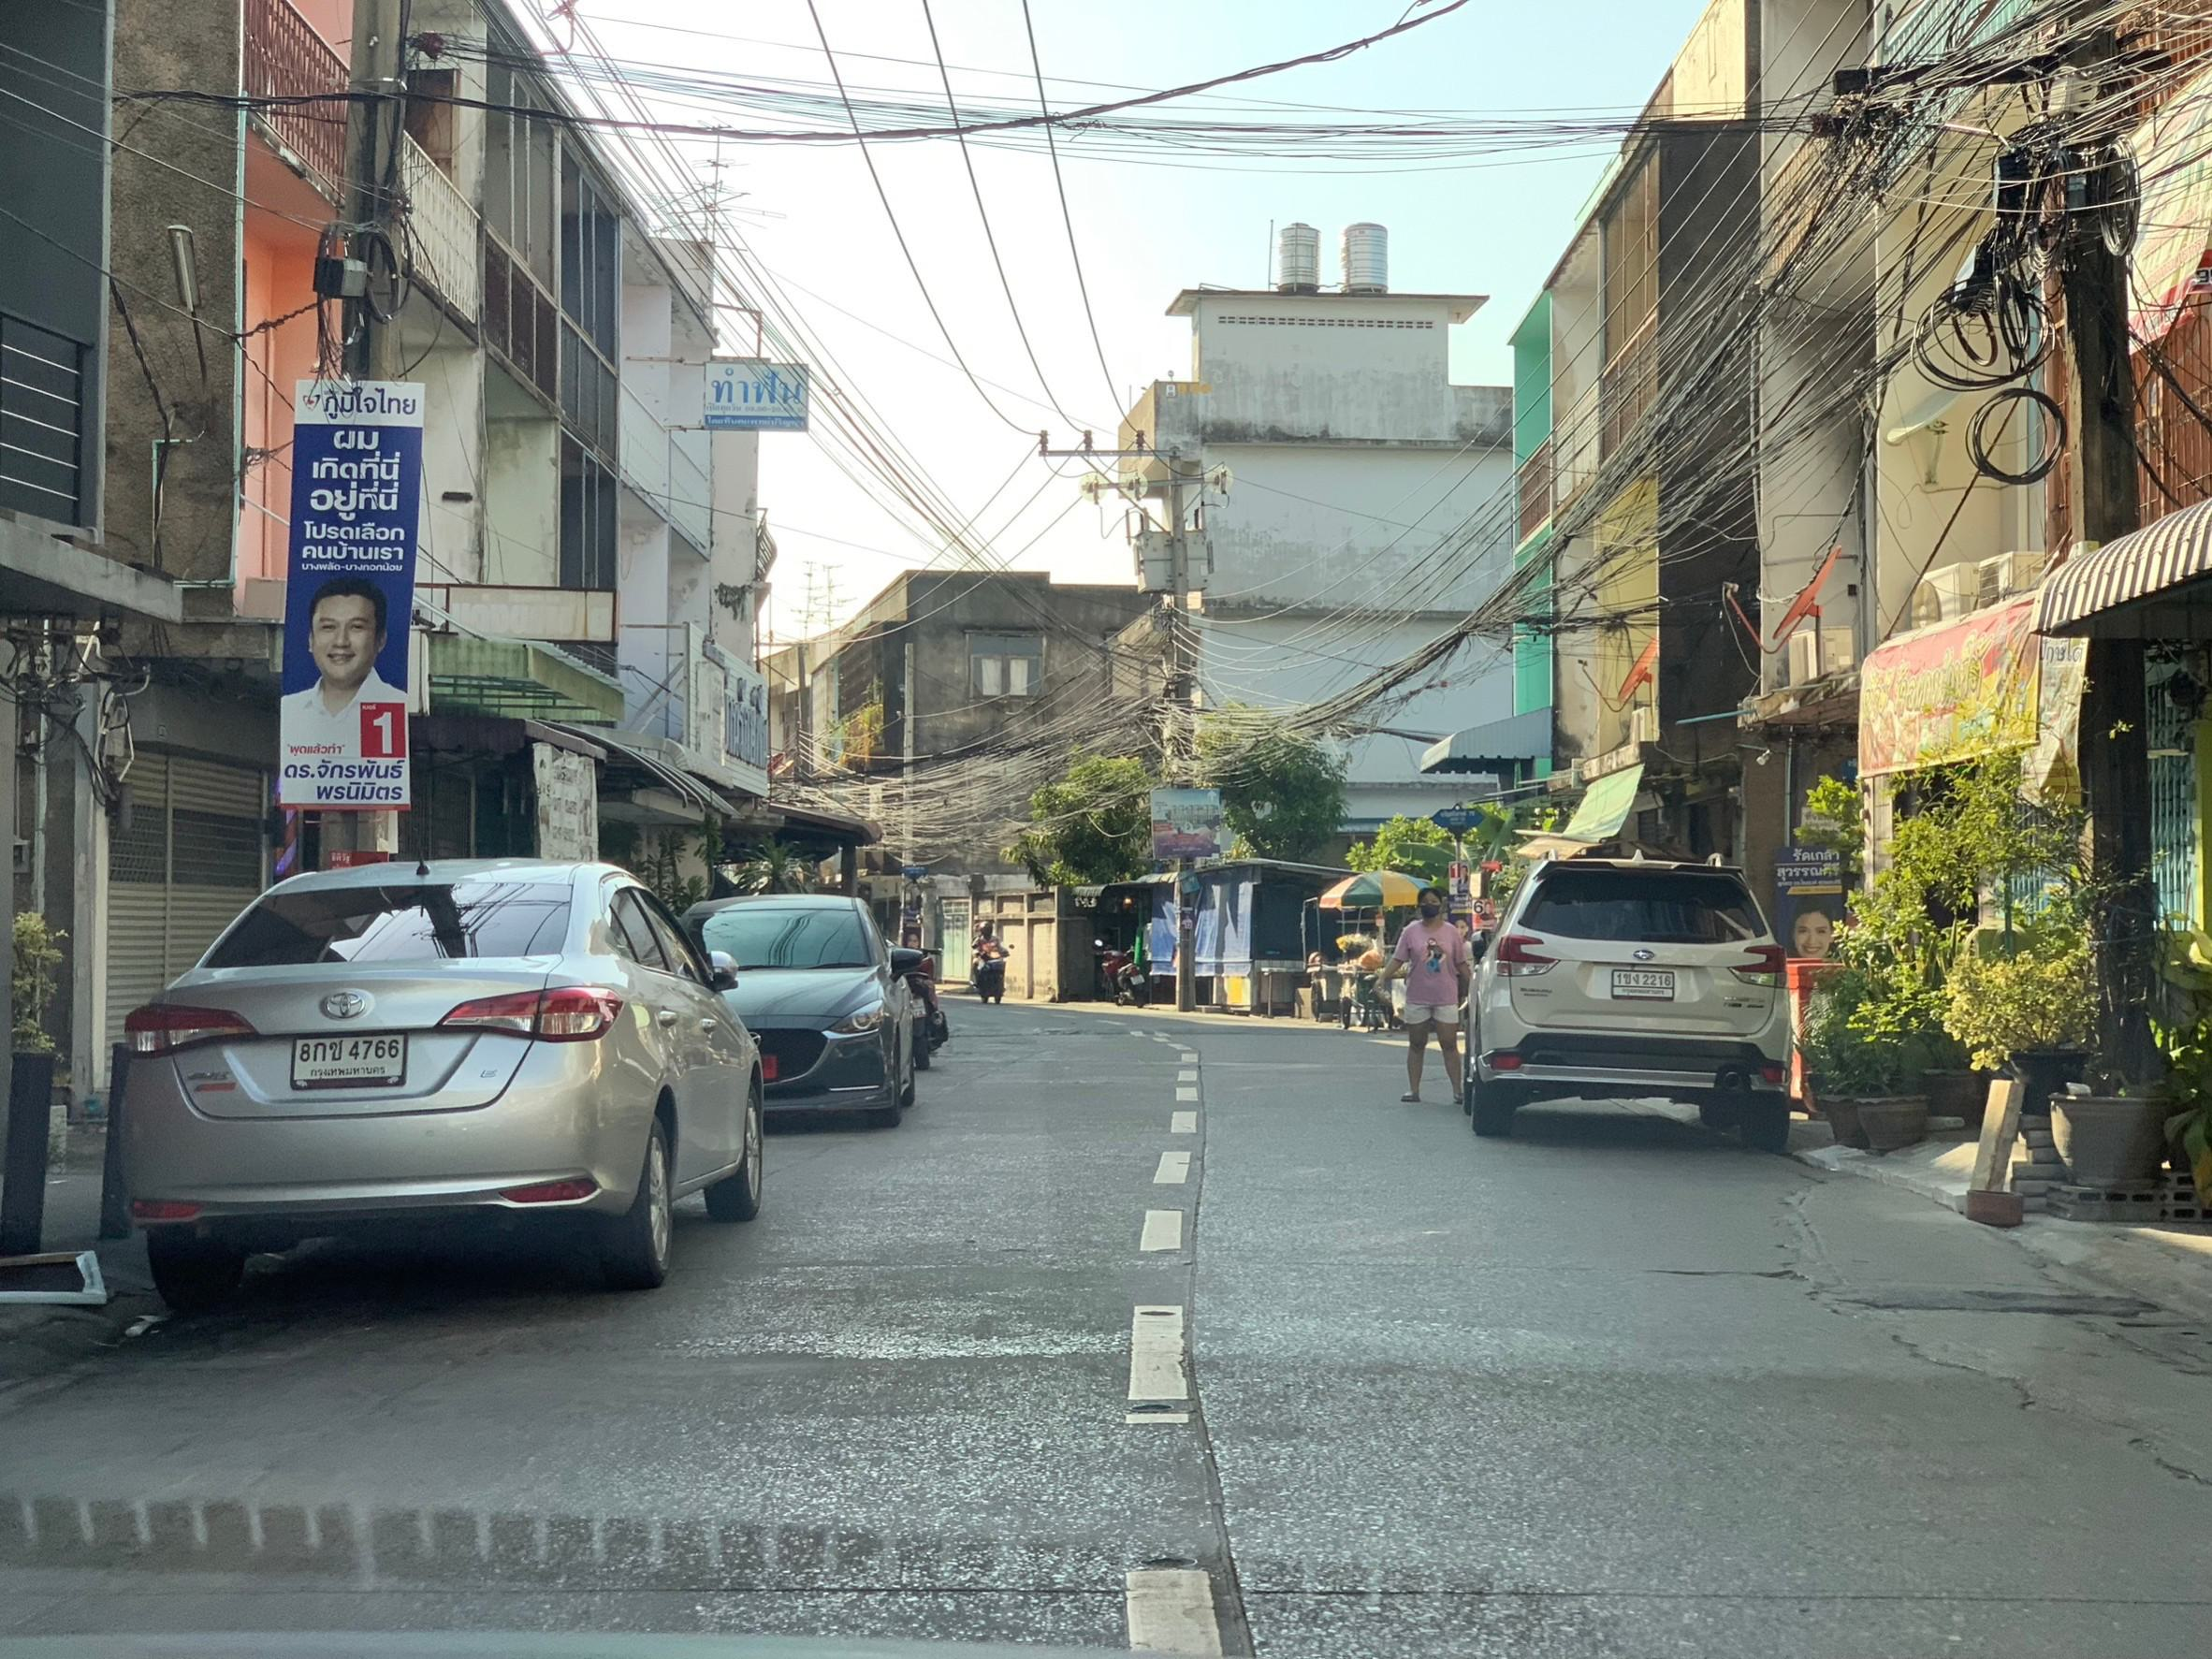Banner: (265, 362, 430, 823)
